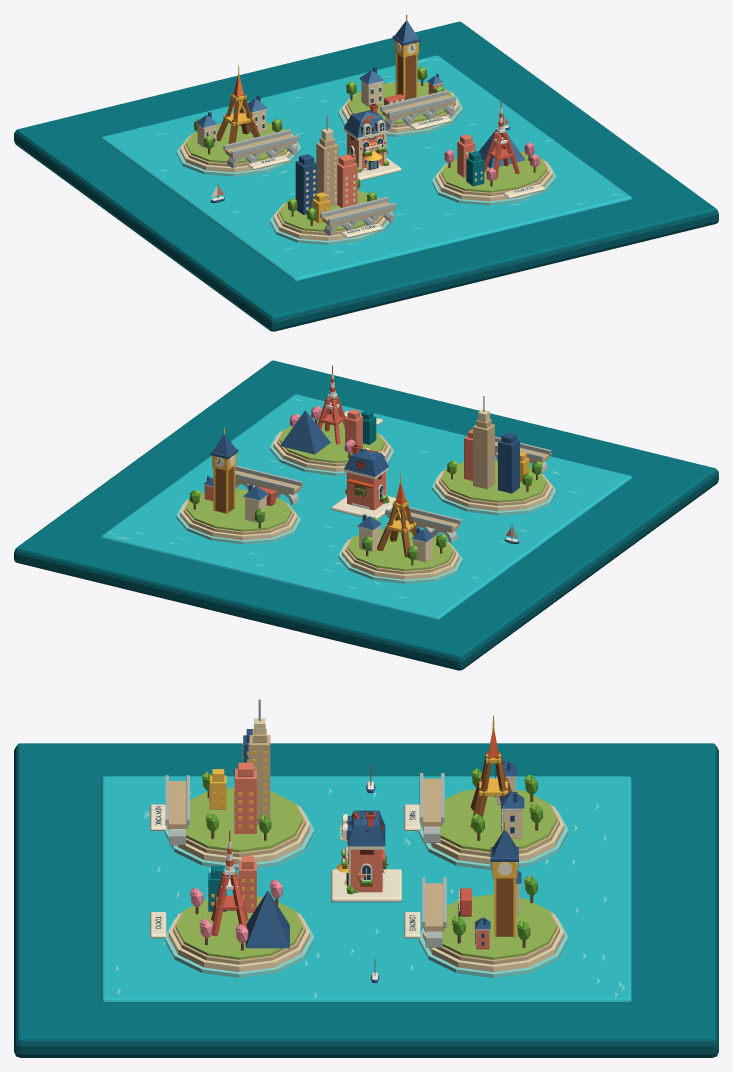
File: money-tour.glb
3 renders of one model, top to bottom at view 1: azimuth 30°, elevation 25°; view 2: azimuth 150°, elevation 25°; view 3: azimuth 270°, elevation 25°, orthographic. The views are drawn at different scales.
Visible parts, largest first — view 1: Raised turquoise rim, Inset cartoon sea, Deep teal game board, Twelve-sided raised island.015, Twelve-sided raised island.003, Manhattan stepped tower.002, Manhattan stepped tower, Twelve-sided raised island.007, Twelve-sided raised island.011, Manhattan stepped tower.001, Elizabeth tower shaft, Twelve-sided raised island.012 (+5 smaller); view 2: Raised turquoise rim, Inset cartoon sea, Deep teal game board, Twelve-sided raised island.007, Twelve-sided raised island.003, Twelve-sided raised island.011, Manhattan stepped tower.002, Twelve-sided raised island.015, Mount Fuji, Manhattan stepped tower, Coral hotel facade, Twelve-sided raised island.005 (+13 smaller); view 3: Raised turquoise rim, Inset cartoon sea, Deep teal game board, Twelve-sided raised island.007, Twelve-sided raised island.011, Twelve-sided raised island.003, Twelve-sided raised island.015, Mount Fuji, Generous ivory tile, Twelve-sided raised island.013, Twelve-sided raised island.005, Manhattan stepped tower.001 (+18 smaller).
Part boxes in pixels (x1,y1,x2,y2): Raised turquoise rim: (16,21,716,318); Inset cartoon sea: (101,55,631,280); Deep teal game board: (14,131,718,331); Twelve-sided raised island.015: (441,151,546,192); Twelve-sided raised island.003: (186,122,286,163); Manhattan stepped tower.002: (316,142,338,206); Manhattan stepped tower: (295,161,317,214); Twelve-sided raised island.007: (347,82,451,124); Twelve-sided raised island.011: (279,191,379,231); Manhattan stepped tower.001: (337,162,357,207); Elizabeth tower shaft: (397,53,415,99); Twelve-sided raised island.012: (432,164,556,205); Raised turquoise rim: (16,360,716,657); Inset cartoon sea: (101,394,631,619); Deep teal game board: (14,470,718,670); Twelve-sided raised island.007: (186,488,291,531); Twelve-sided raised island.003: (347,529,453,570); Twelve-sided raised island.011: (441,460,546,502); Manhattan stepped tower.002: (473,424,494,489); Twelve-sided raised island.015: (279,421,385,462); Mount Fuji: (280,410,330,454); Manhattan stepped tower: (498,439,519,493); Coral hotel facade: (347,472,385,510); Twelve-sided raised island.005: (180,499,297,540); Raised turquoise rim: (17,743,715,1040); Inset cartoon sea: (101,776,631,1001); Deep teal game board: (14,746,718,1057); Twelve-sided raised island.007: (442,894,557,959); Twelve-sided raised island.011: (185,787,302,852); Twelve-sided raised island.003: (440,789,557,851); Twelve-sided raised island.015: (175,895,302,959); Mount Fuji: (245,890,289,948); Generous ivory tile: (331,869,401,901); Twelve-sided raised island.013: (168,913,310,972); Twelve-sided raised island.005: (422,913,564,972); Manhattan stepped tower.001: (234,768,256,833).
Size of the model in its own units: 16.65 by 4.17 by 16.65.
